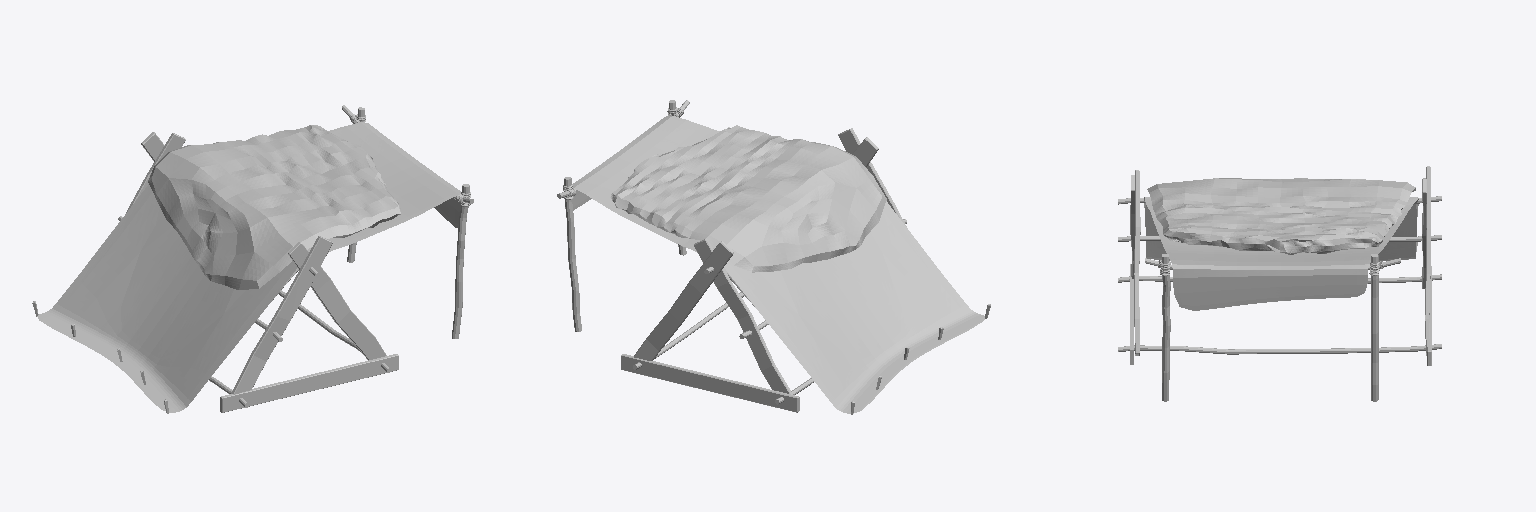
Rendered from highpoly_viking_tent_004.obj.
3 renders of one model, left to right at view 1: azimuth 30°, elevation 25°; view 2: azimuth 150°, elevation 25°; view 3: azimuth 270°, elevation 25°, orthographic.
Parts seen in each view (by area): view 1: Plane.002, Plane.001, Cube.015, Cube.017, Cube.014, Cylinder.124, Cube.016; view 2: Plane.002, Plane.001, Cube.012, Cube.013, Cube.016, Cylinder.125, Cube.015; view 3: Plane.001, Plane.002, Cylinder.123, Cylinder.125, Cylinder.124, Cube.014, Cube.013.
Boxes of the visible parts, x1=… form: Plane.002: x1=37, y1=122, x2=460, y2=412; Plane.001: x1=148, y1=125, x2=400, y2=289; Cube.015: x1=231, y1=236, x2=332, y2=394; Cube.017: x1=220, y1=354, x2=398, y2=412; Cube.014: x1=288, y1=242, x2=386, y2=360; Cylinder.124: x1=452, y1=184, x2=469, y2=338; Cube.016: x1=126, y1=133, x2=185, y2=212; Plane.002: x1=572, y1=116, x2=984, y2=413; Plane.001: x1=610, y1=125, x2=886, y2=272; Cube.012: x1=621, y1=354, x2=799, y2=412; Cube.013: x1=634, y1=241, x2=733, y2=360; Cube.016: x1=694, y1=238, x2=792, y2=394; Cylinder.125: x1=564, y1=177, x2=581, y2=331; Cube.015: x1=838, y1=128, x2=906, y2=226; Plane.001: x1=1147, y1=178, x2=1415, y2=254; Plane.002: x1=1144, y1=197, x2=1418, y2=310; Cylinder.123: x1=1118, y1=344, x2=1441, y2=354; Cylinder.125: x1=1371, y1=254, x2=1378, y2=401; Cylinder.124: x1=1162, y1=254, x2=1170, y2=401; Cube.014: x1=1134, y1=170, x2=1140, y2=355; Cube.013: x1=1425, y1=166, x2=1430, y2=355.
Bounding box in the file's own units: 10 × 4.61 × 8.92.